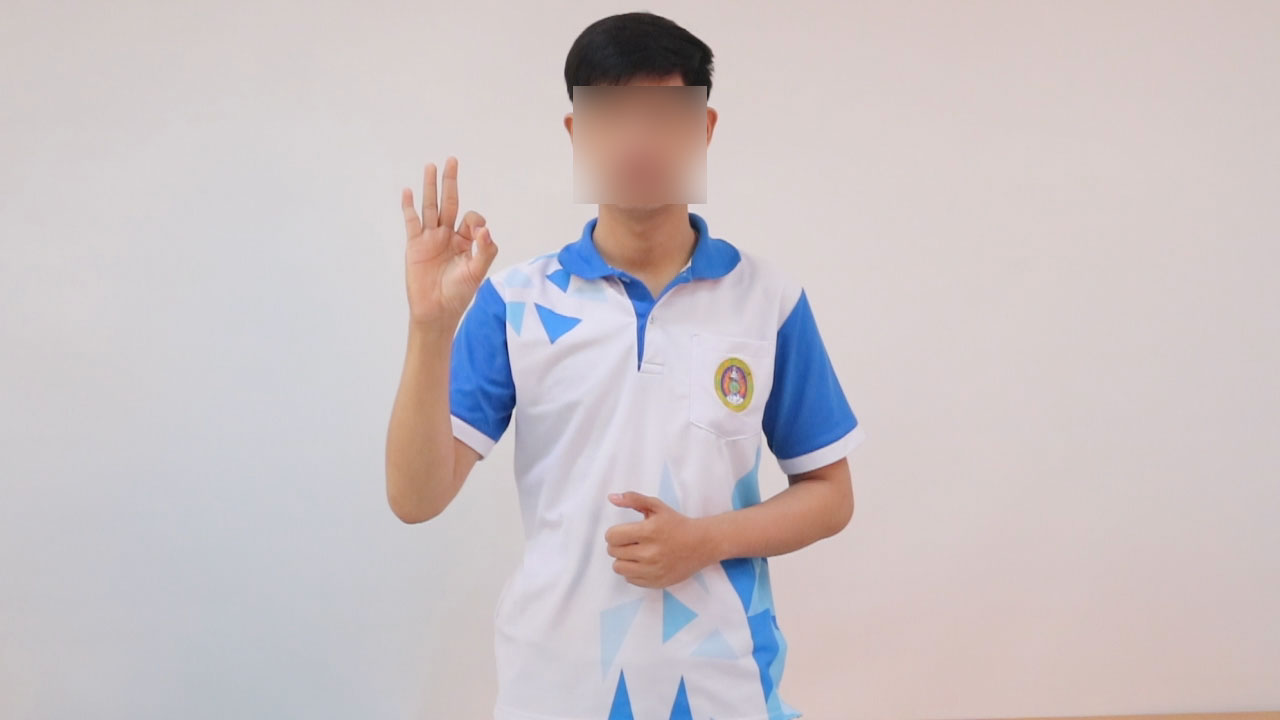for: (396, 142, 503, 336)
